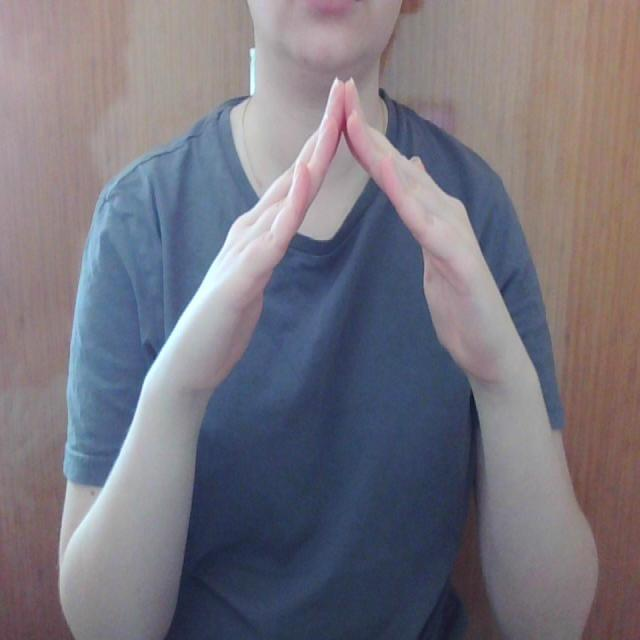Ev: (163, 70, 531, 391)
